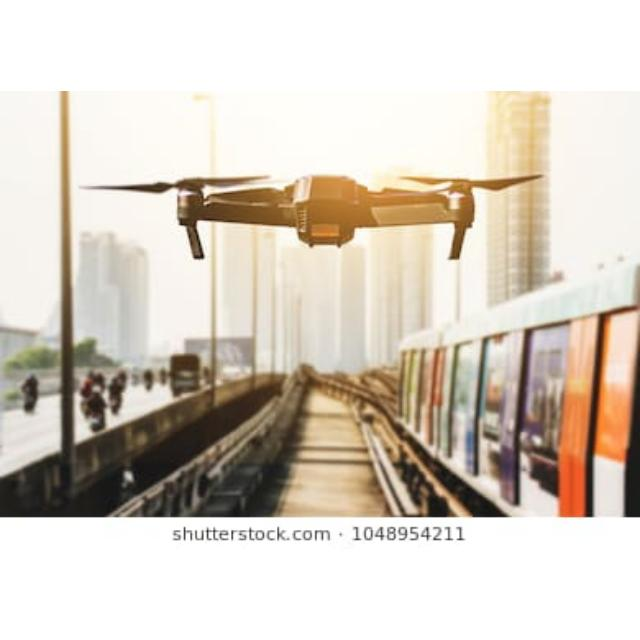Drones: (110, 172, 540, 256)
